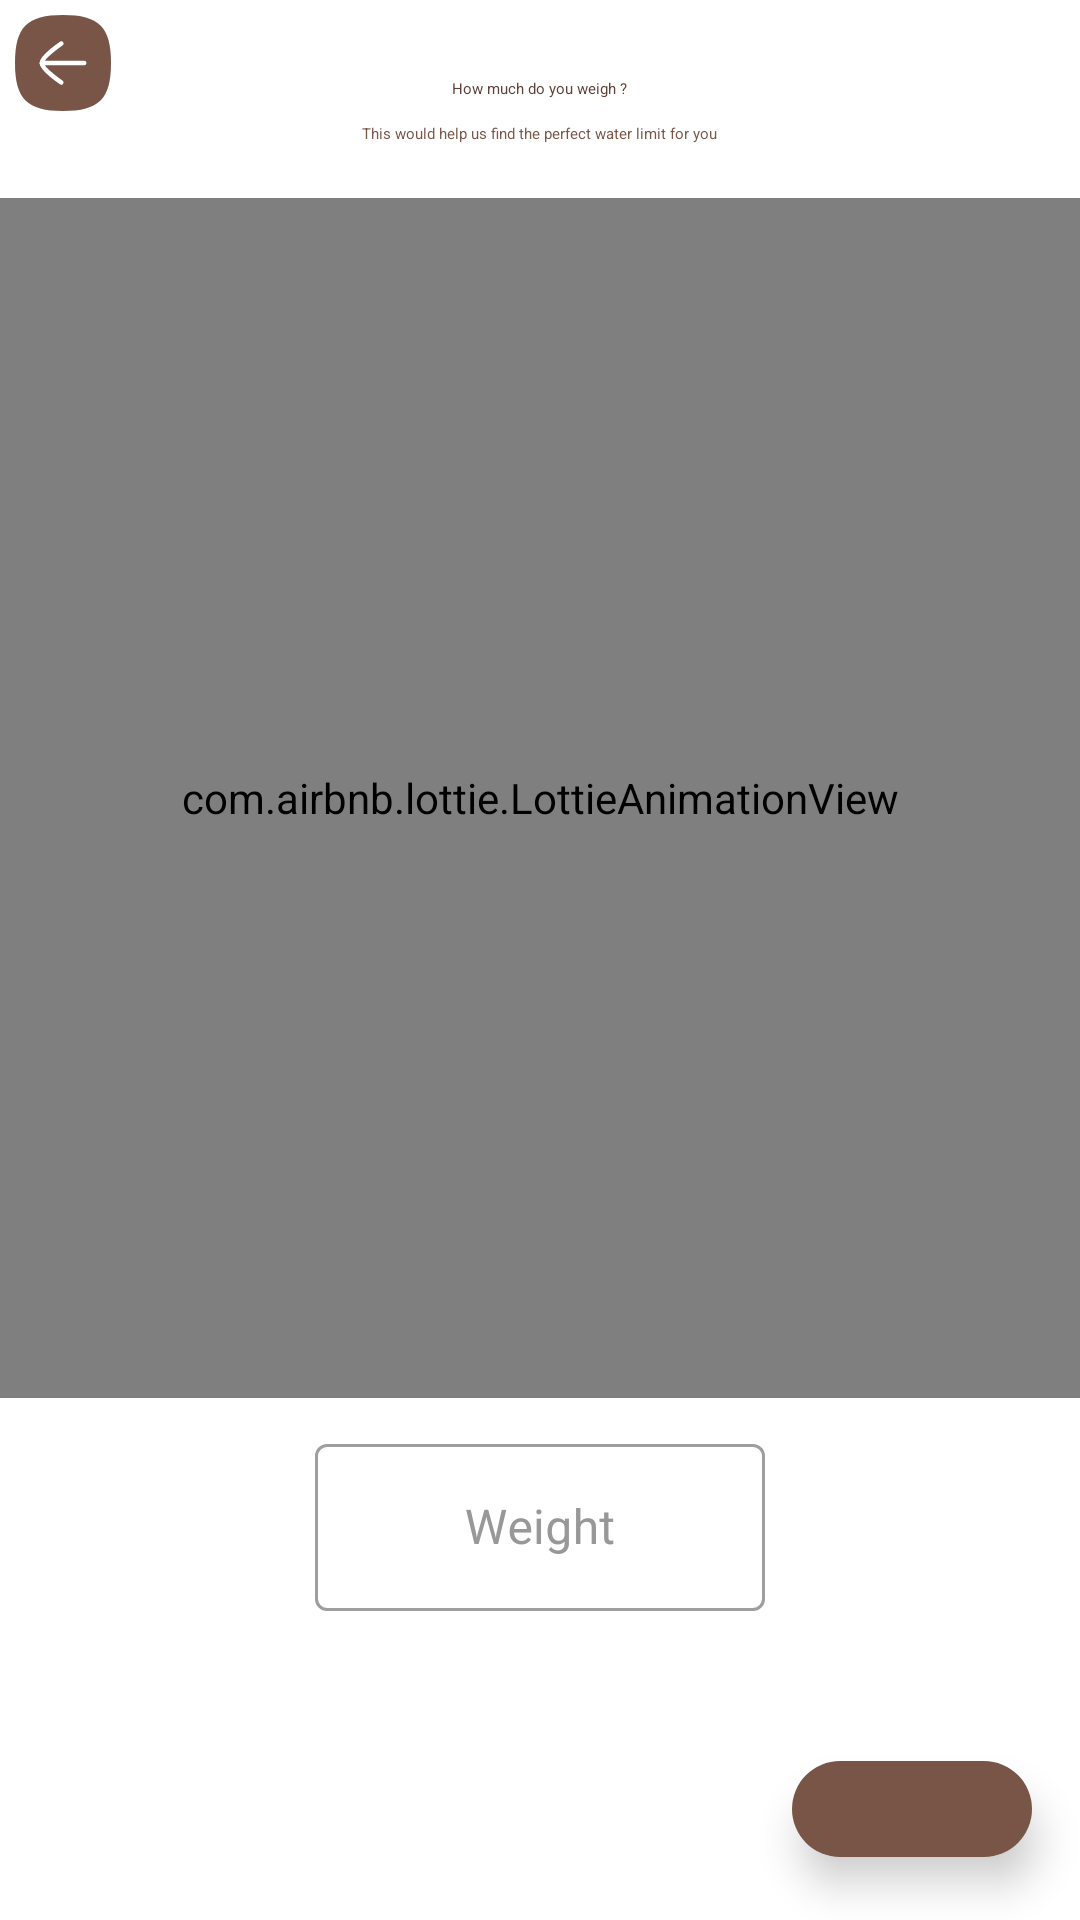

Where icons sit on this 1080w x 1920h app screen, as BBox(x1, y1, x2, y2):
back: BBox(15, 15, 111, 111)
